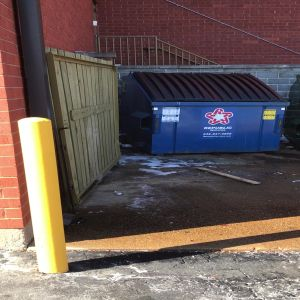Dumpster: (126, 72, 294, 157)
